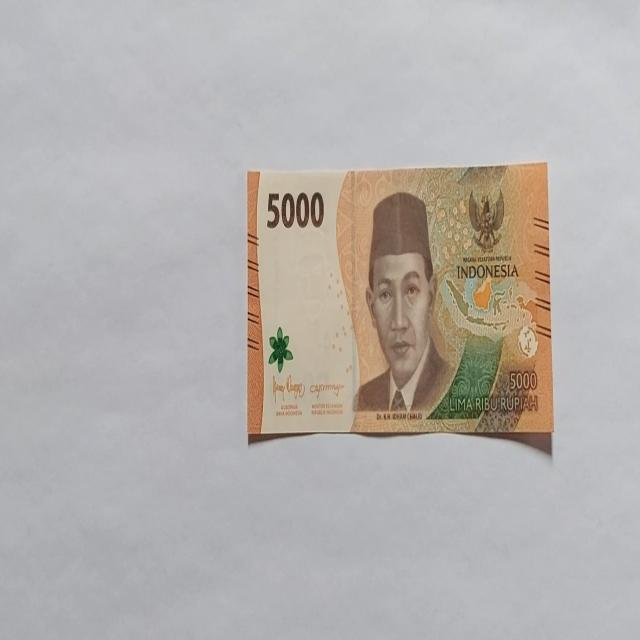lima ribu rupiah: (246, 162, 554, 446), (350, 190, 456, 422)
